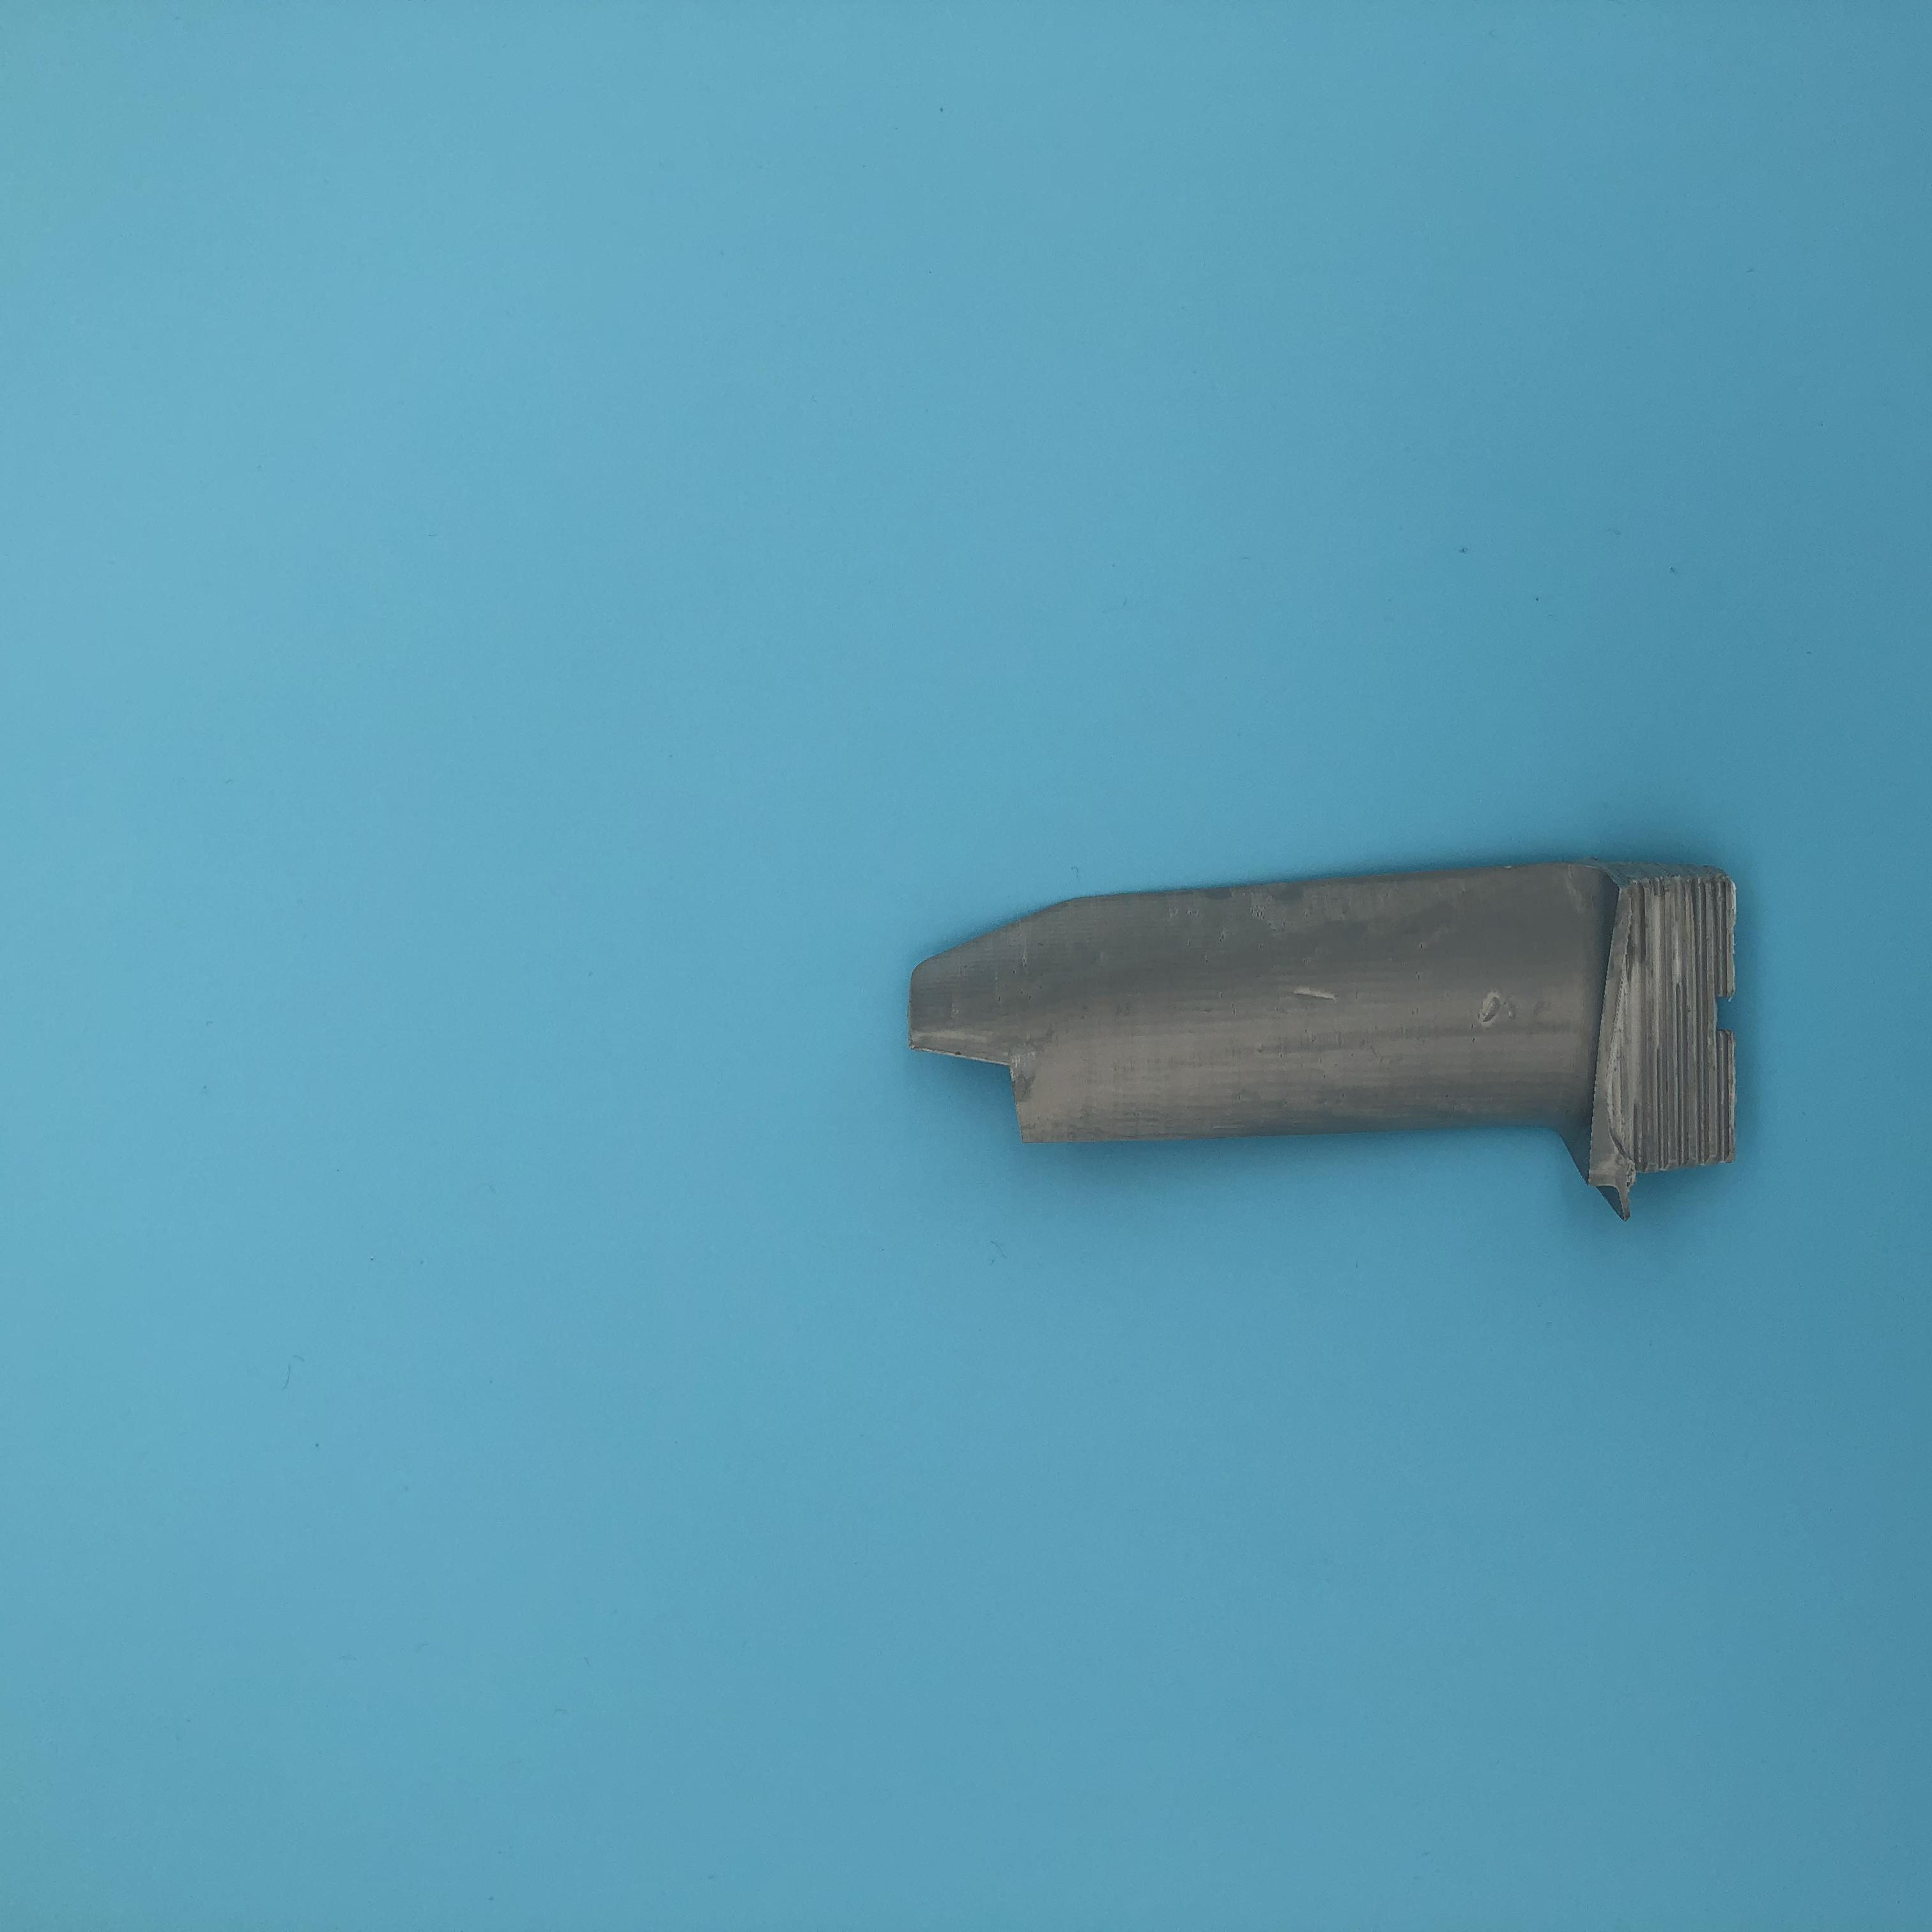fracture: (902, 1021, 1088, 1150)
